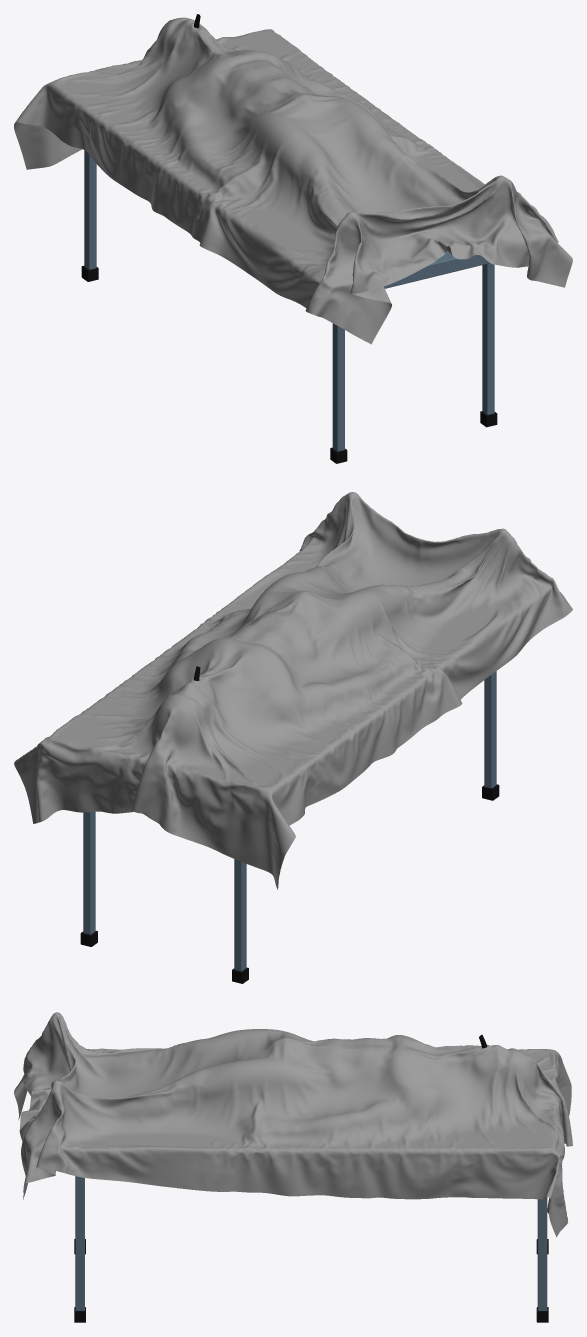
The model's file is suction.glb.
The picture shows the model from 3 angles, top to bottom: view 1: azimuth 30°, elevation 25°; view 2: azimuth 150°, elevation 25°; view 3: azimuth 270°, elevation 25°; orthographic projection. The views are drawn at different scales.
Parts seen in each view (by area): view 1: 0RetopoMain.001; view 2: 0RetopoMain.001; view 3: 0RetopoMain.001.
Boxes of the visible parts, box(x1,y1,x2,y2) form: 0RetopoMain.001: box(14, 14, 572, 463); 0RetopoMain.001: box(14, 492, 572, 983); 0RetopoMain.001: box(14, 1012, 572, 1322).
Size of the model in its own units: 1.13 by 1.02 by 2.06.
